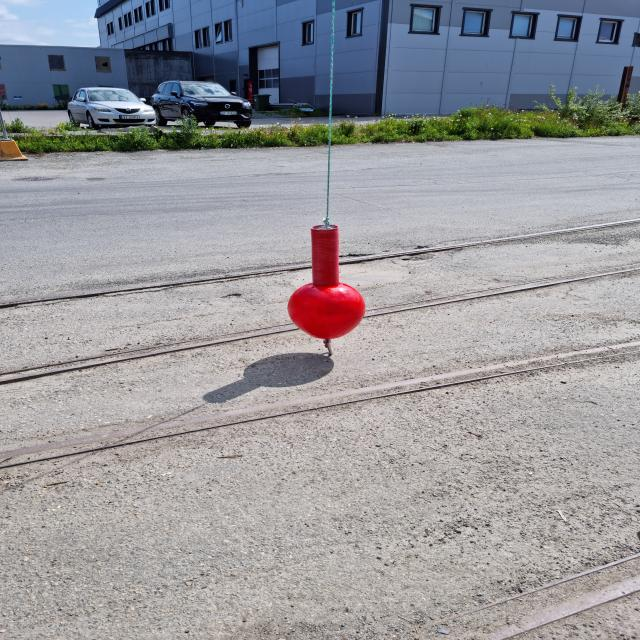red: (290, 226, 364, 339)
